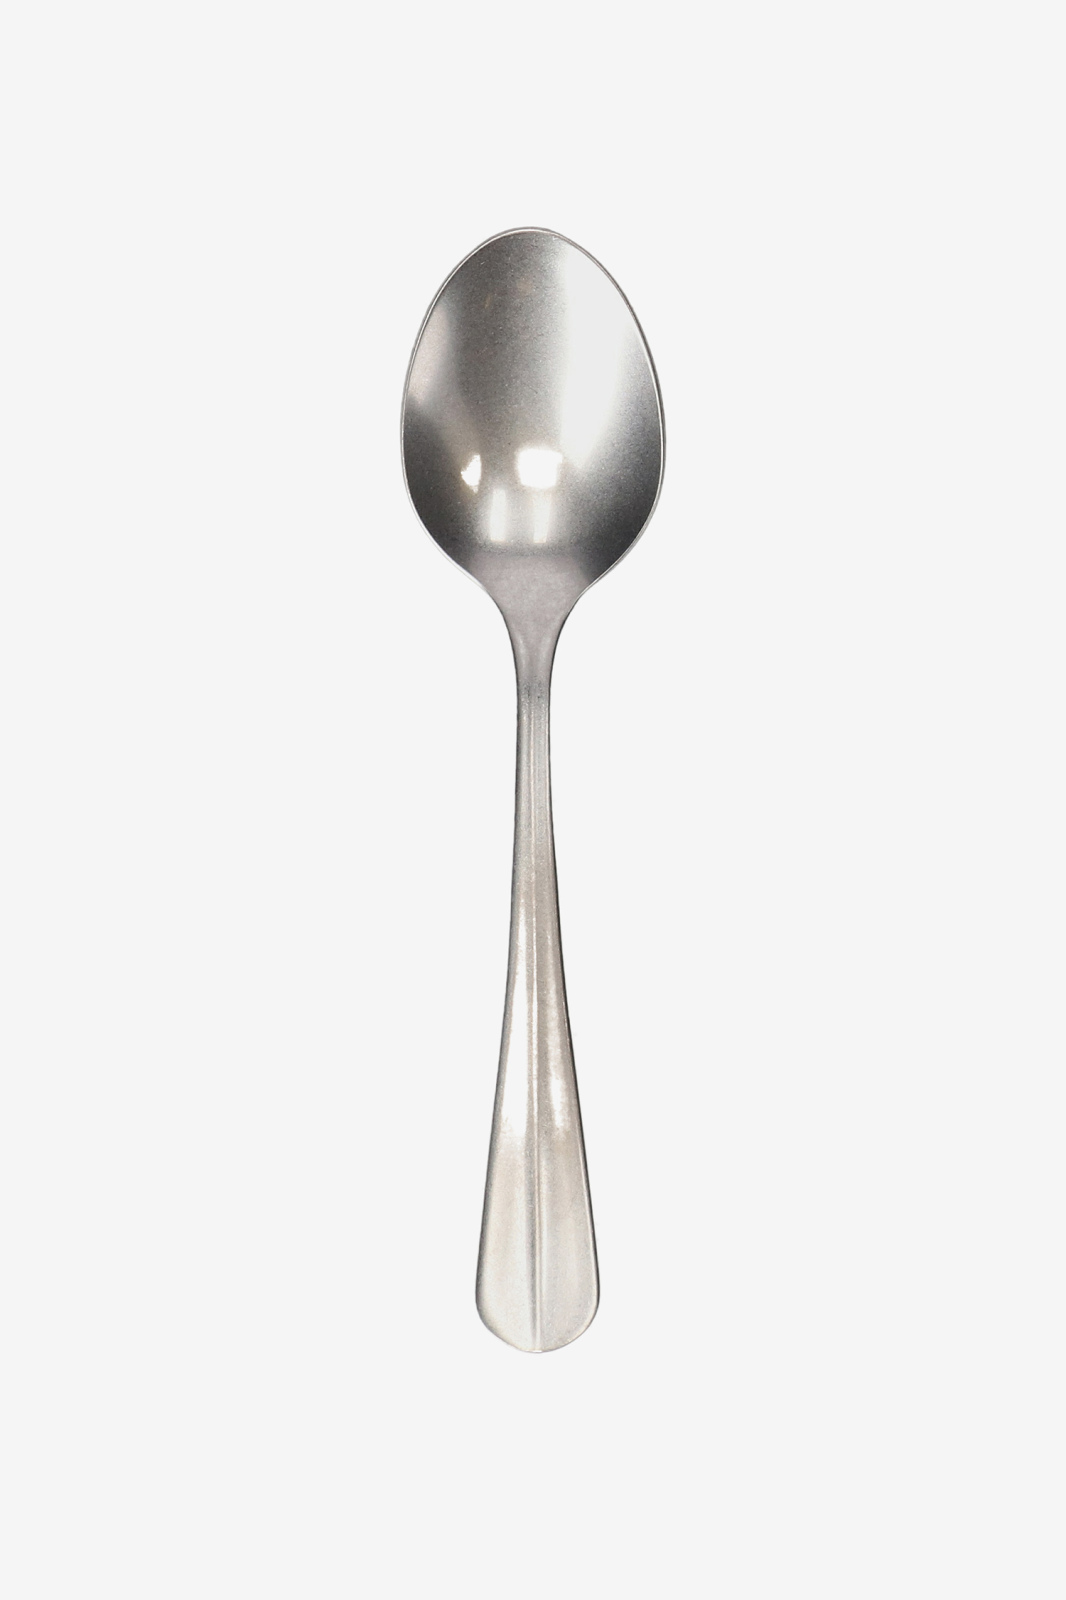metal: (408, 222, 667, 1348)
